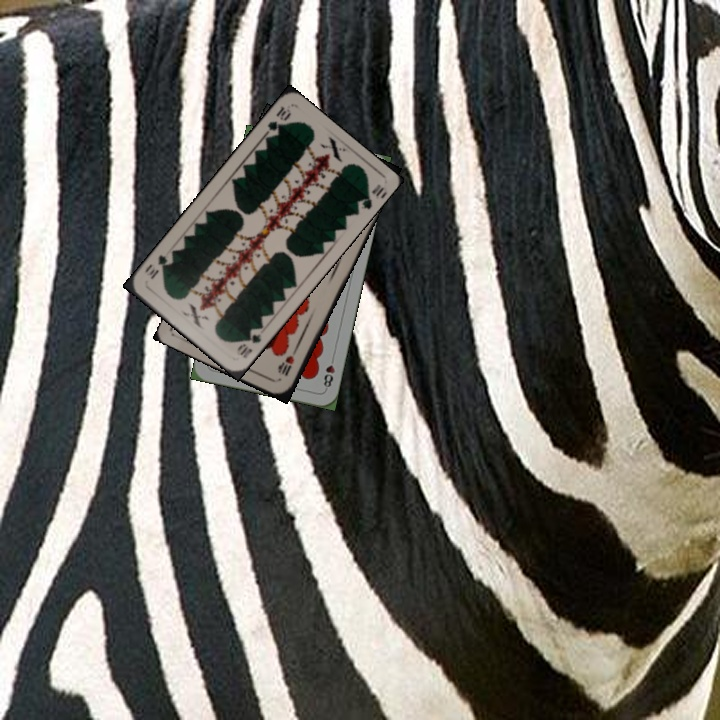G10: (261, 102, 294, 140), (232, 328, 264, 361)
H10: (275, 344, 300, 379)
H8: (319, 352, 337, 392)
